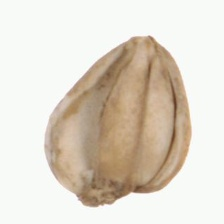L1: (72, 177, 134, 209), (130, 31, 168, 61)
L2: (44, 34, 191, 207)
